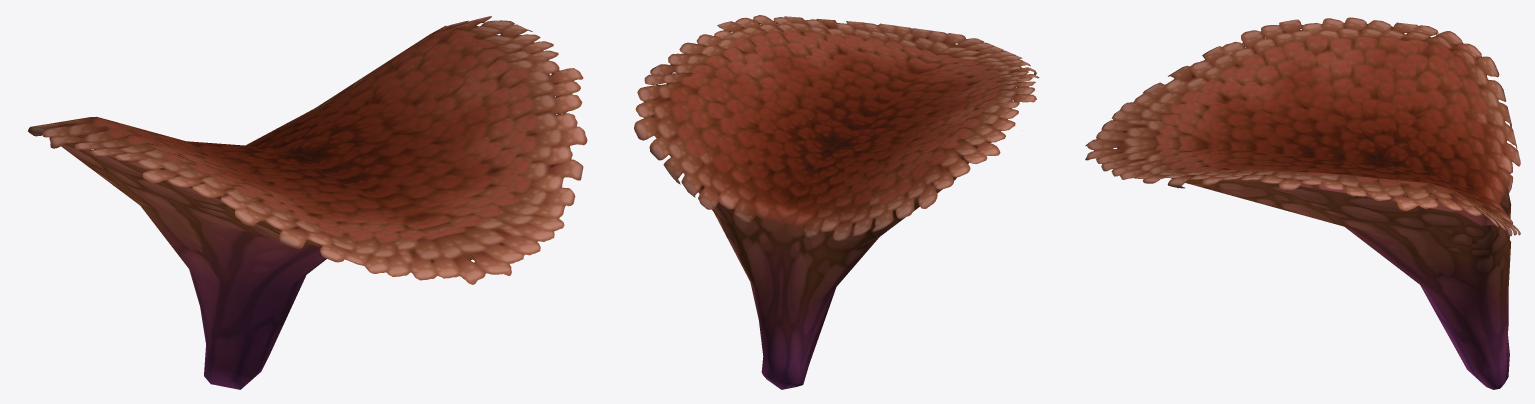
File: Coral_22.FBX
The picture shows the model from 3 angles, left to right: view 1: azimuth 30°, elevation 25°; view 2: azimuth 150°, elevation 25°; view 3: azimuth 270°, elevation 25°; orthographic projection. The views are drawn at different scales.
Visible parts, largest first — view 1: Coral_22; view 2: Coral_22; view 3: Coral_22.
Boxes of the visible parts, x1=… form: Coral_22: x1=28, y1=16, x2=587, y2=389; Coral_22: x1=634, y1=15, x2=1039, y2=389; Coral_22: x1=1085, y1=17, x2=1520, y2=389.
Size of the model in its own units: 22.96 by 16.01 by 22.74.
